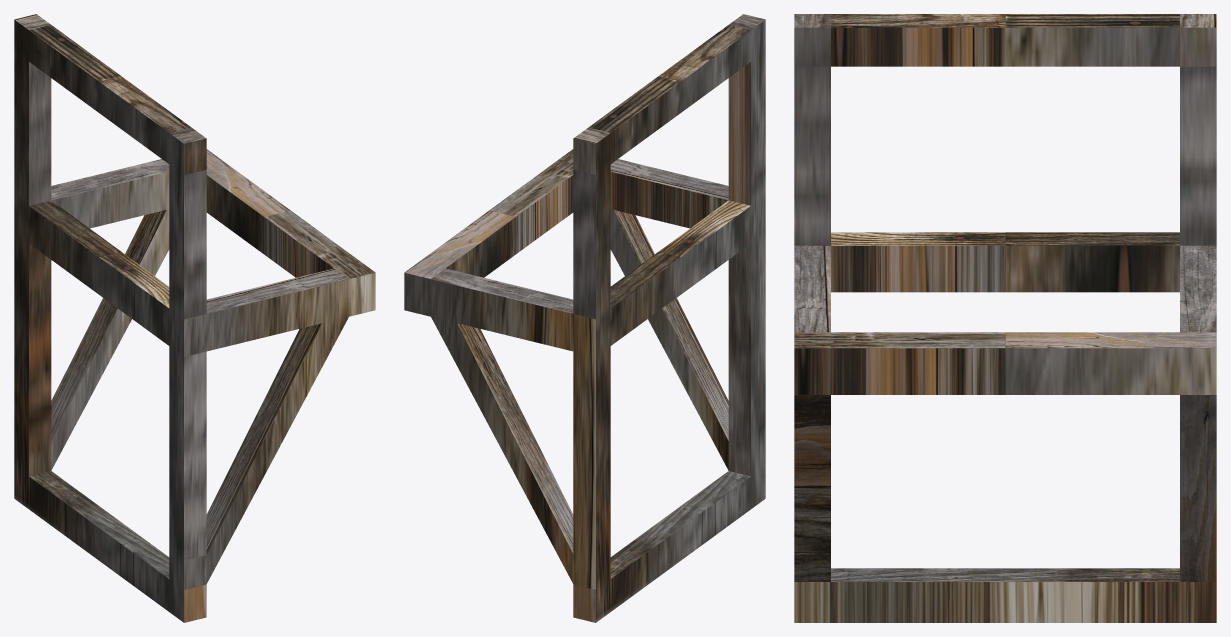
The model's file is Katapult_rahmen.fbx.
The picture shows the model from 3 angles, left to right: view 1: azimuth 30°, elevation 25°; view 2: azimuth 150°, elevation 25°; view 3: azimuth 270°, elevation 25°; orthographic projection. The views are drawn at different scales.
Visible parts, largest first — view 1: Katapult-Rahmen; view 2: Katapult-Rahmen; view 3: Katapult-Rahmen.
Boxes of the visible parts, x1,y1,x2,y2 form: Katapult-Rahmen: [14, 14, 375, 622]; Katapult-Rahmen: [404, 14, 765, 622]; Katapult-Rahmen: [794, 14, 1216, 622].
Size of the model in its own units: 3.42 by 8.16 by 5.25.
1 material, 1 textured.
